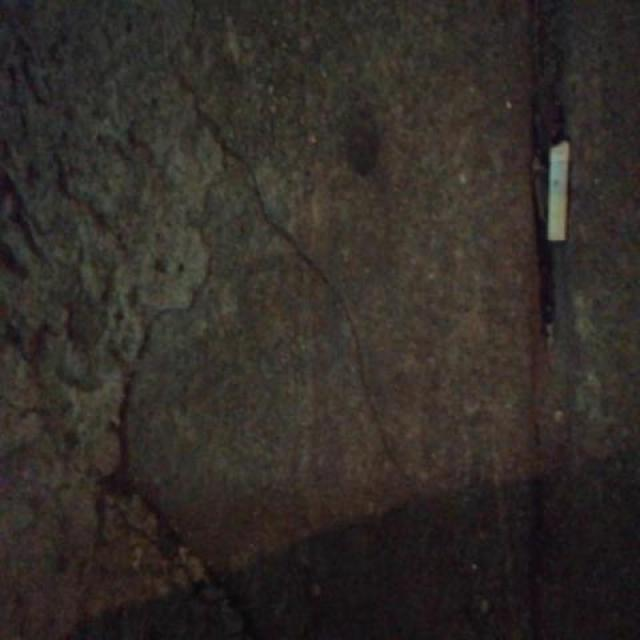non-organic waste: (542, 134, 574, 250)
